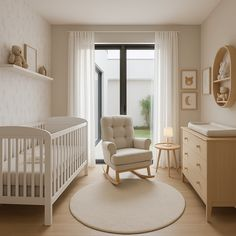crib: (0, 117, 87, 224)
